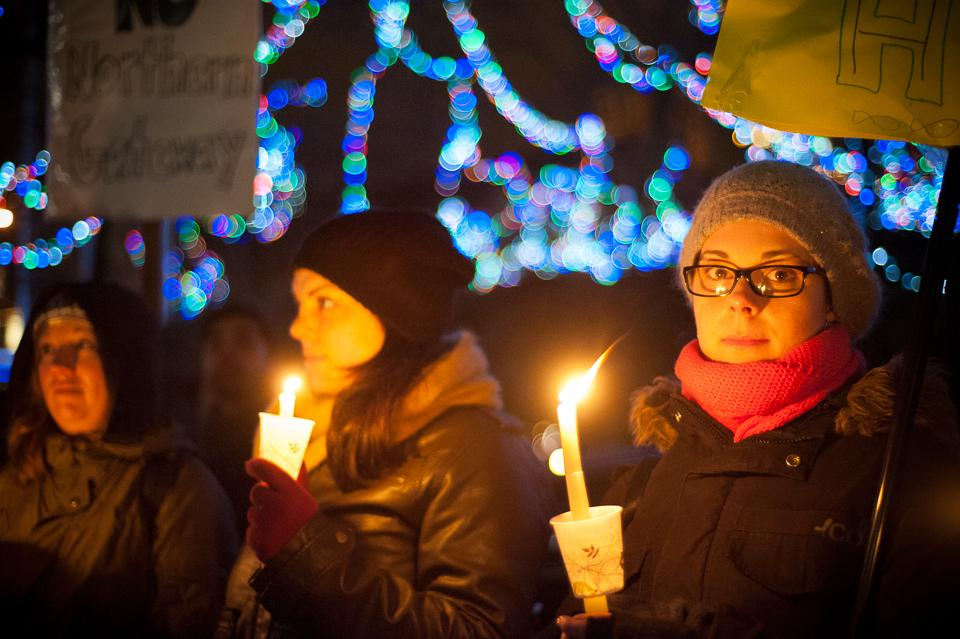fire: (550, 368, 597, 400), (277, 368, 302, 393)
